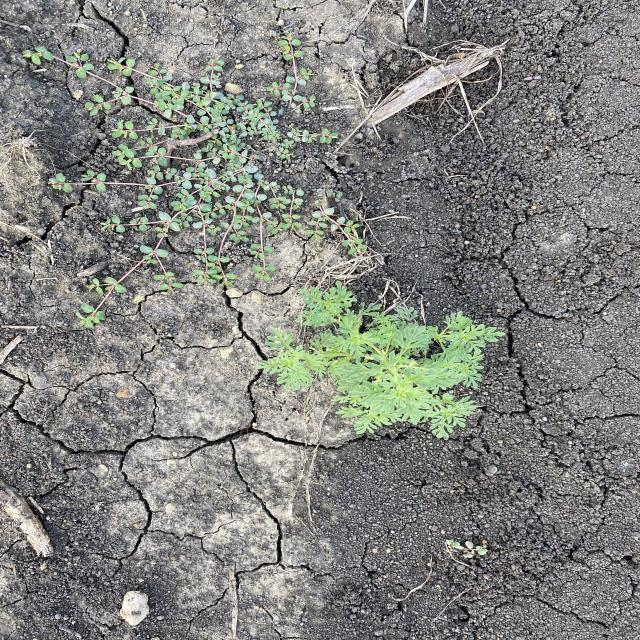Ragweed: (252, 278, 508, 442)
SpottedSpurge: (18, 28, 370, 330)
